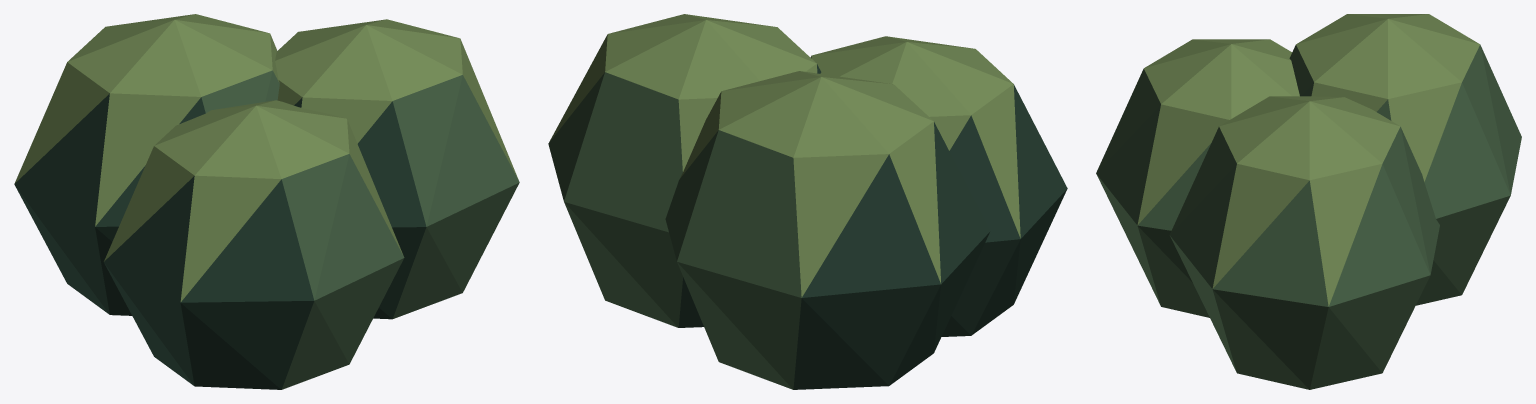
File: TW_SHRUB_ROUND_A_LOD0.glb
The picture shows the model from 3 angles, left to right: view 1: azimuth 30°, elevation 25°; view 2: azimuth 150°, elevation 25°; view 3: azimuth 270°, elevation 25°; orthographic projection. The views are drawn at different scales.
Visible parts, largest first — view 1: TW_SHRUB_ROUND_A_LOD0; view 2: TW_SHRUB_ROUND_A_LOD0; view 3: TW_SHRUB_ROUND_A_LOD0.
Part boxes in pixels (bbox=[...]): TW_SHRUB_ROUND_A_LOD0: bbox=[14, 14, 519, 389]; TW_SHRUB_ROUND_A_LOD0: bbox=[548, 14, 1067, 389]; TW_SHRUB_ROUND_A_LOD0: bbox=[1096, 14, 1521, 389].
Bounding box in the file's own units: 0.95 × 0.65 × 0.85.
1 material, 1 textured.
